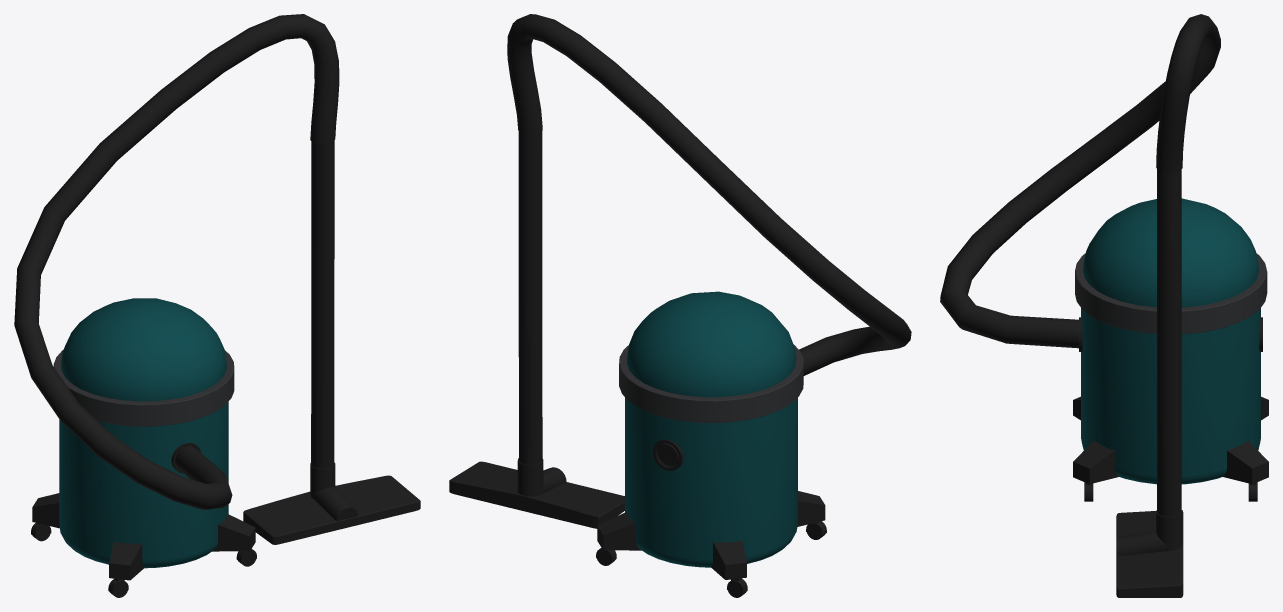
The model's file is AspiradoraBasica.fbx.
The picture shows the model from 3 angles, left to right: view 1: azimuth 30°, elevation 25°; view 2: azimuth 150°, elevation 25°; view 3: azimuth 270°, elevation 25°; orthographic projection. The views are drawn at different scales.
Visible parts, largest first — view 1: BézierCurve, Cylinder, Sphere, Cylinder.005, Cube.003, Cube.001, Cylinder.007, Cylinder.003, Cylinder.006; view 2: Cylinder, BézierCurve, Sphere, Cylinder.005, Cube.003, Cube.001, Cylinder.006, Cylinder.002, Cylinder.003; view 3: Cylinder, BézierCurve, Sphere, Cylinder.005, Cube.003, Cube.001, Cylinder.007, Cylinder.006.
Boxes of the visible parts, <box> form: BézierCurve: <box>14,14,339,509</box>; Cylinder: <box>53,349,234,568</box>; Sphere: <box>61,298,226,401</box>; Cylinder.005: <box>311,141,334,468</box>; Cube.003: <box>243,475,420,544</box>; Cube.001: <box>32,493,255,580</box>; Cylinder.007: <box>312,487,357,521</box>; Cylinder.003: <box>32,524,256,597</box>; Cylinder.006: <box>310,462,335,499</box>; Cylinder: <box>619,344,803,567</box>; BézierCurve: <box>507,14,911,375</box>; Sphere: <box>626,291,795,397</box>; Cylinder.005: <box>518,131,542,464</box>; Cube.003: <box>449,461,624,528</box>; Cube.001: <box>597,491,825,579</box>; Cylinder.006: <box>517,458,543,496</box>; Cylinder.002: <box>653,439,683,470</box>; Cylinder.003: <box>596,523,824,597</box>; Cylinder: <box>1075,253,1267,484</box>; BézierCurve: <box>940,14,1220,348</box>; Sphere: <box>1083,198,1258,307</box>; Cylinder.005: <box>1157,169,1181,516</box>; Cube.003: <box>1116,510,1183,597</box>; Cube.001: <box>1073,396,1268,484</box>; Cylinder.007: <box>1116,531,1168,556</box>; Cylinder.006: <box>1156,510,1182,551</box>.
Bounding box in the file's own units: 66.93 × 79.32 × 45.25.
